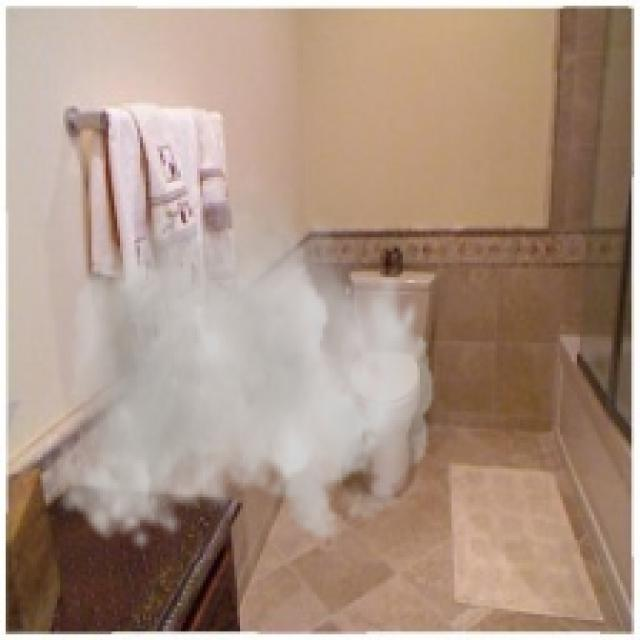smoke: (54, 166, 434, 554)
